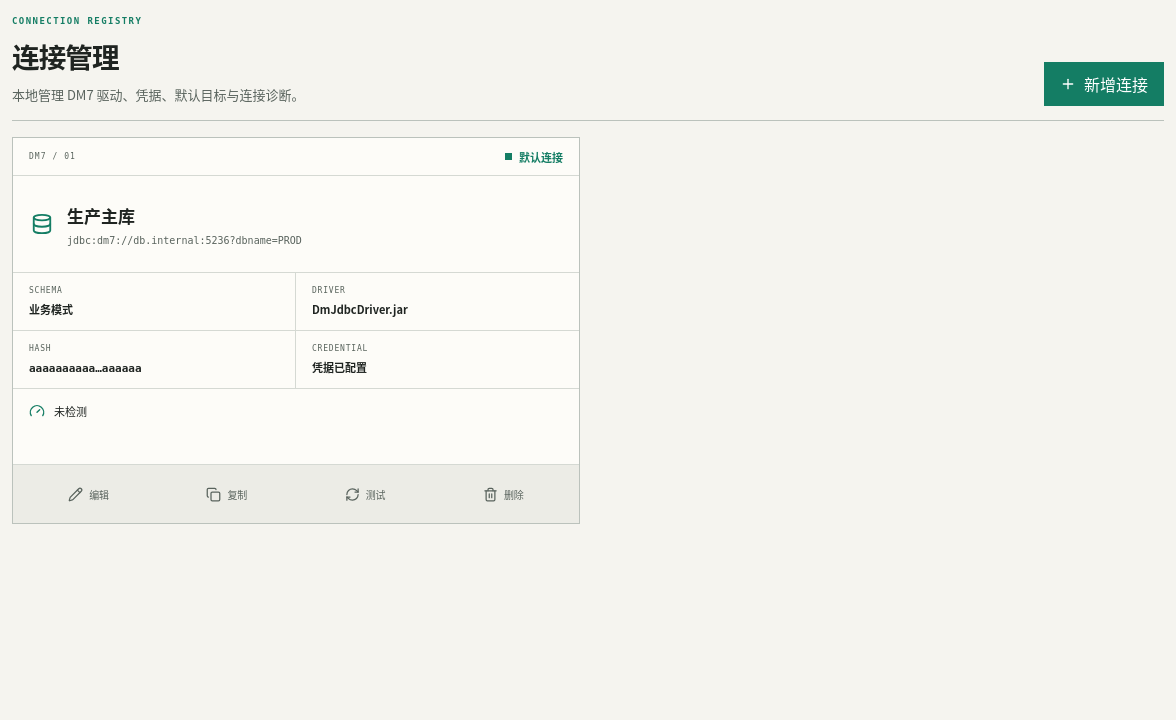
ConnectionsPage › renders complete safe test diagnostics for failure and warnings
The image size is (1176, 720).
Expected: the heading "生产主库" is shown, [67,203,135,228]
Click the button with aria-label "测试生产主库" at (365, 494), box [296,472,434,516]
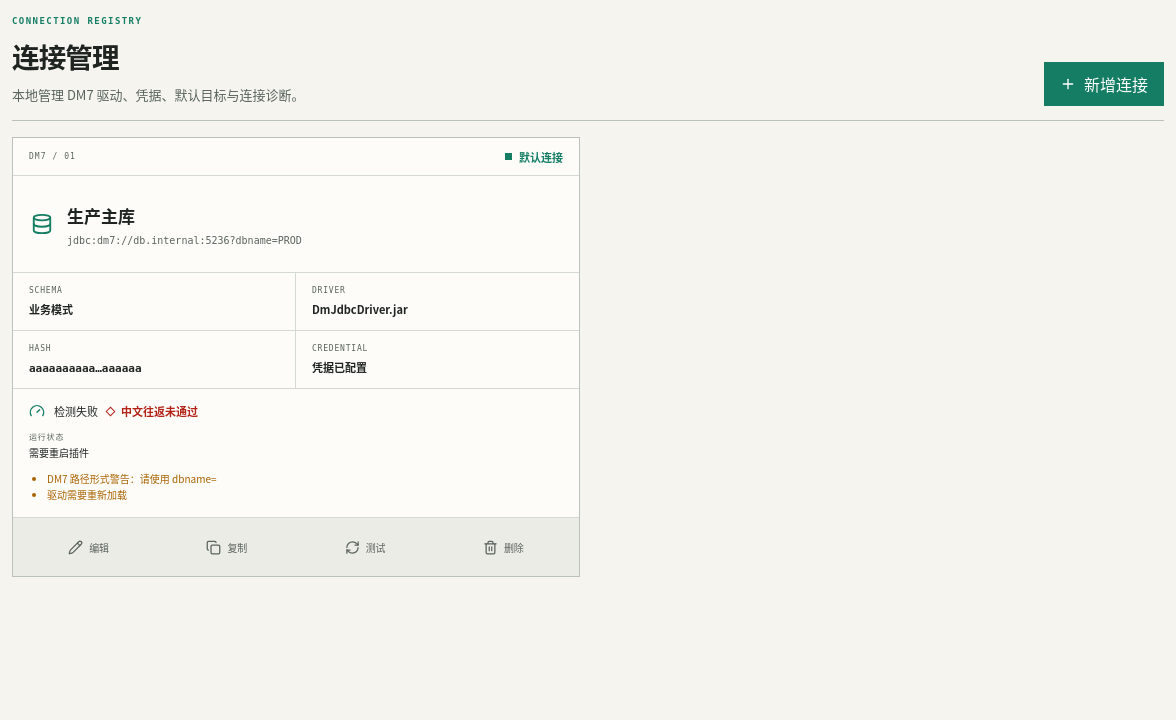
Now the text "中文往返未通过" is shown, box [107,403,198,419]
Now the list item "DM7 路径形式警告：请使用 dbname=" is shown, box [47,471,216,486]
Now the list item "驱动需要重新加载" is shown, box [47,487,127,502]
